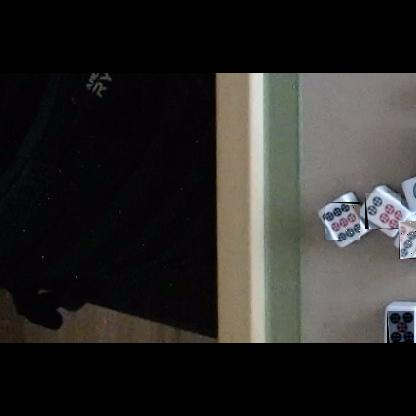5p: (387, 311, 414, 343)
6p: (365, 193, 401, 229)
9p: (324, 202, 360, 240), (399, 221, 416, 259)
